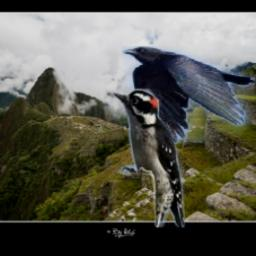Crow: (122, 47, 255, 145)
Woodpecker: (113, 90, 186, 228)
